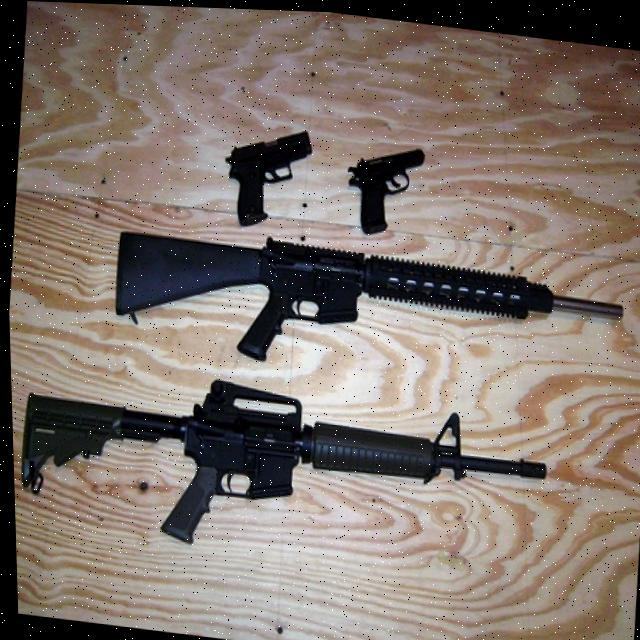firearm: (11, 359, 552, 583), (107, 221, 625, 399)
pistol: (219, 118, 314, 230), (342, 139, 425, 236)
